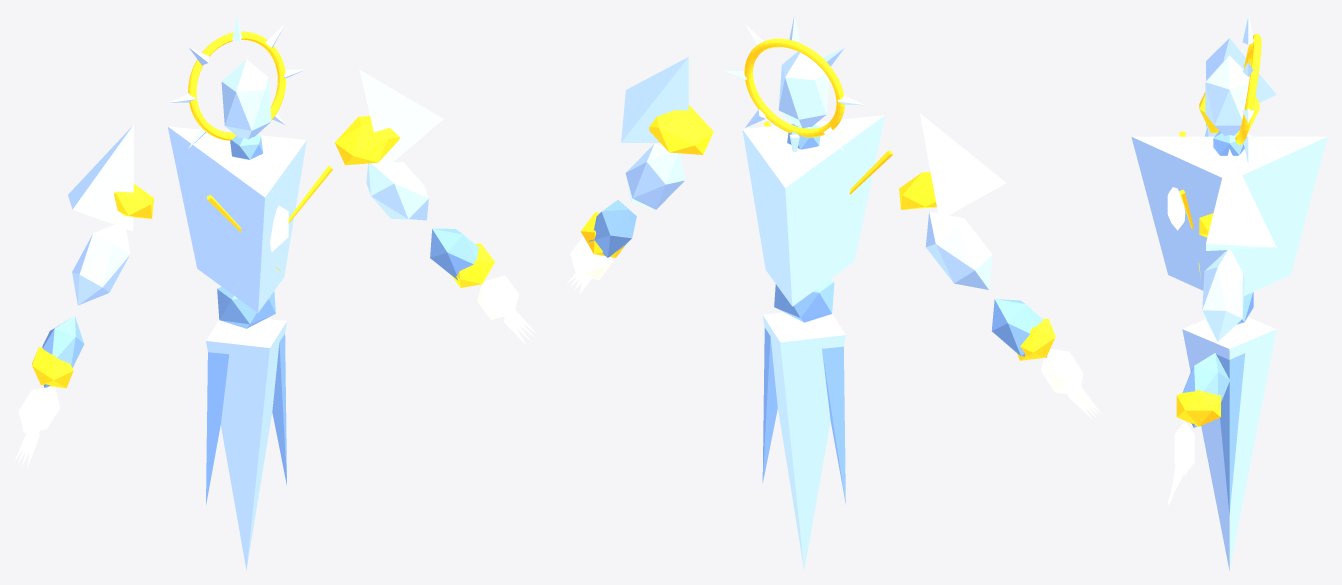
The model's file is light_god_F.glb.
3 views of the same model, side by side, from view 1: azimuth 30°, elevation 25°; view 2: azimuth 150°, elevation 25°; view 3: azimuth 270°, elevation 25° (orthographic). The views are drawn at different scales.
Parts seen in each view (by area): view 1: god_body; view 2: god_body; view 3: god_body.
Part boxes in pixels (x1,y1,x2,y2): god_body: (14,14,536,570); god_body: (567,15,1101,569); god_body: (1131,14,1327,570).
Bounding box in the file's own units: 2.58 × 2.59 × 0.8314.
